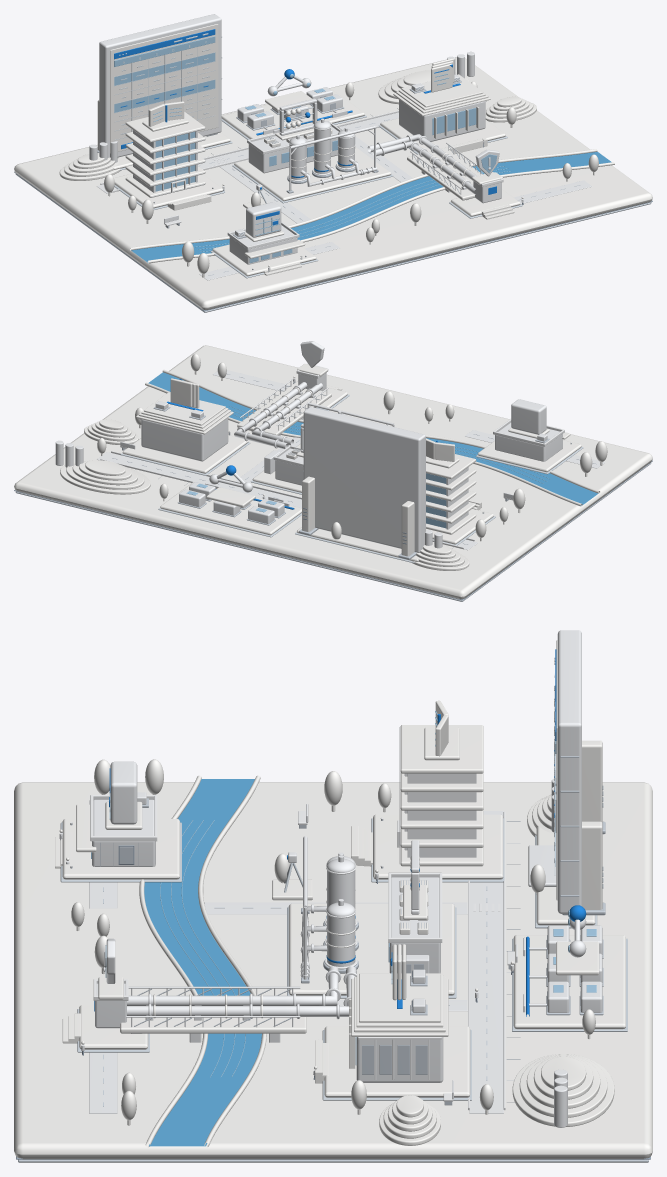
Rendered from sandbox-lightmapped.glb.
3 renders of one model, top to bottom at view 1: azimuth 30°, elevation 25°; view 2: azimuth 150°, elevation 25°; view 3: azimuth 270°, elevation 25°, orthographic. The views are drawn at different scales.
Visible parts, largest first — view 1: zone_land, zone_table, zone_price, zone_knowledge, zone_report, zone_risk, zone_import, zone_review; view 2: zone_land, zone_table, zone_report, zone_review, zone_knowledge, zone_risk, zone_import, zone_price; view 3: zone_land, zone_knowledge, zone_report, zone_price, zone_risk, zone_table, zone_review, zone_import.
Boxes of the visible parts, <box> form: zone_land: <box>14,51,652,312</box>; zone_table: <box>97,14,232,170</box>; zone_price: <box>232,98,392,203</box>; zone_knowledge: <box>114,101,225,210</box>; zone_report: <box>378,58,507,154</box>; zone_risk: <box>367,134,522,219</box>; zone_import: <box>210,202,318,278</box>; zone_review: <box>221,69,366,139</box>; zone_land: <box>14,345,652,601</box>; zone_table: <box>295,407,425,563</box>; zone_report: <box>120,378,250,475</box>; zone_review: <box>158,465,301,537</box>; zone_knowledge: <box>426,438,495,545</box>; zone_risk: <box>234,341,349,448</box>; zone_import: <box>476,399,583,474</box>; zone_price: <box>251,402,394,494</box>; zone_land: <box>14,759,652,1162</box>; zone_knowledge: <box>351,700,504,882</box>; zone_report: <box>315,944,471,1100</box>; zone_price: <box>287,836,456,998</box>; zone_risk: <box>62,938,357,1052</box>; zone_table: <box>528,630,605,928</box>; zone_review: <box>512,905,627,1031</box>; zone_import: <box>55,761,181,882</box>.
Size of the model in its own units: 34.04 by 9.56 by 25.
